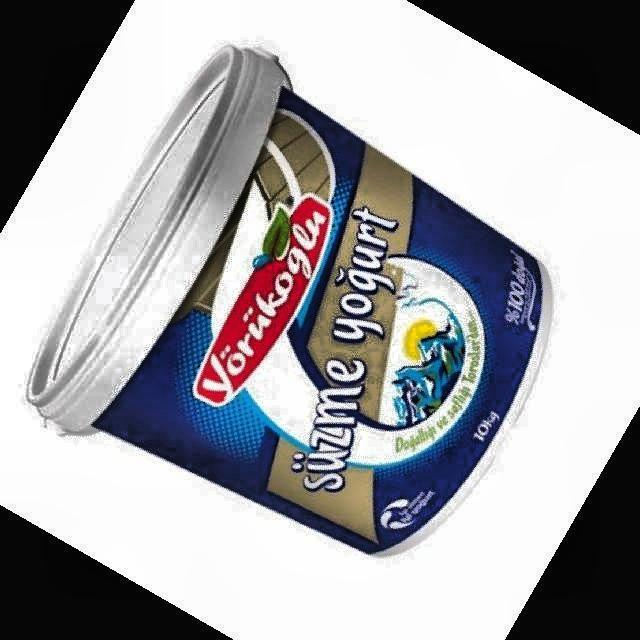plastic: (34, 88, 551, 552)
